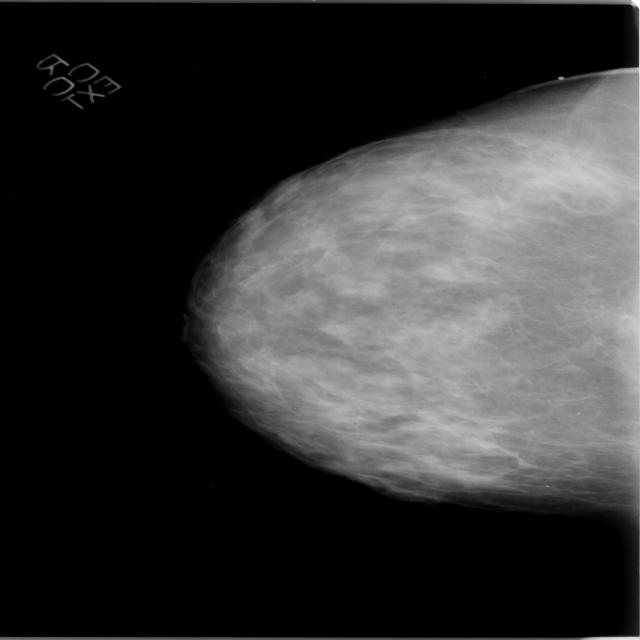normal: (175, 63, 640, 514)
